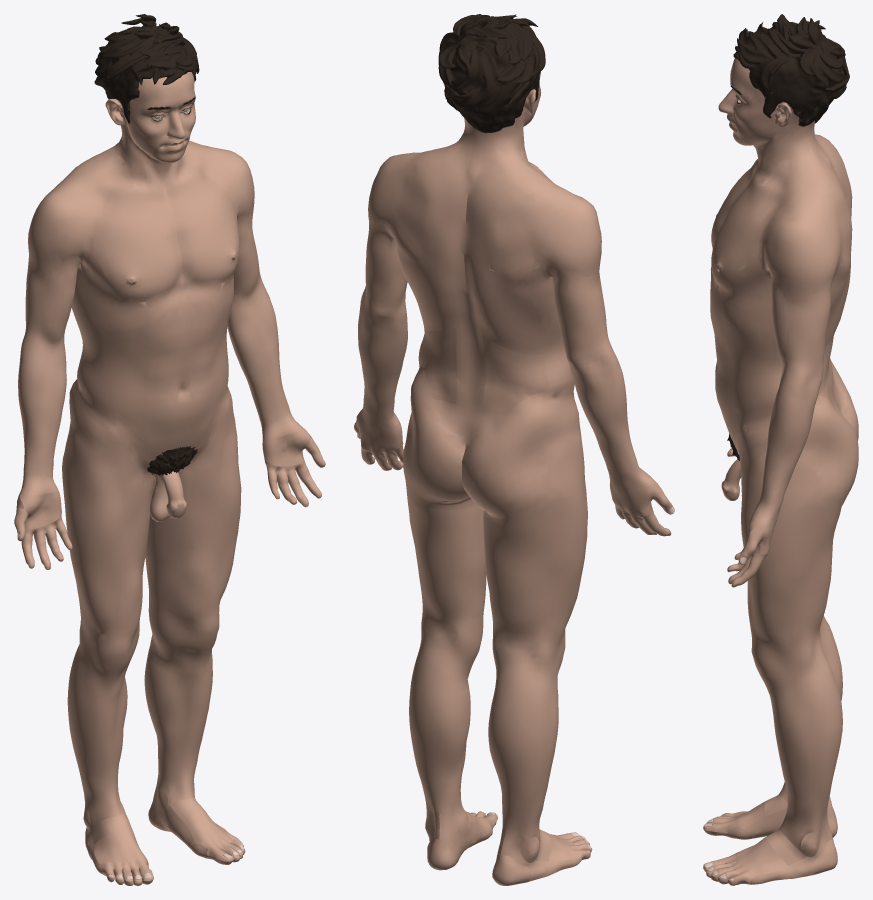
The picture shows the model from 3 angles, left to right: view 1: azimuth 30°, elevation 25°; view 2: azimuth 150°, elevation 25°; view 3: azimuth 270°, elevation 25°; orthographic projection. The views are drawn at different scales.
Parts seen in each view (by area): view 1: Ext_Anterior_Region_Of_Thigh_Right, Ext_Anterior_Region_Of_Thigh_Left, Ext_Hairs_Of_Head, Ext_Anterior_Region_Of_Leg_Left, Ext_Anterior_Region_Of_Leg_Right, Ext_Pectoral_Region_Right, Ext_Deltoid_Region_Right, Ext_Anterior_Region_Of_Forearm_Left, Ext_Anterior_Region_Of_Forearm_Right, Ext_Lateral_Region_Of_Thorax_Right, Ext_Lateral_Region_Of_Abdomen_Right, Ext_Pectoral_Region_Left (+46 smaller); view 2: Ext_Posterior_Region_Of_Thigh_Right, Ext_Hairs_Of_Head, Ext_Gluteal_Region_Right, Ext_Posterior_Region_Of_Thigh_Left, Ext_Posterior_Region_Of_Leg_Right, Ext_Posterior_Region_Of_Leg_Left, Ext_Gluteal_Region_Left, Ext_Scapular_Region_Right, Ext_Posterior_Region_Of_Arm_Right, Ext_Infrascapular_Region_Right, Ext_Scapular_Region_Left, Ext_Posterior_Region_Of_Forearm_Right (+32 smaller); view 3: Ext_Hairs_Of_Head, Ext_Anterior_Region_Of_Thigh_Left, Ext_Posterior_Region_Of_Thigh_Left, Ext_Deltoid_Region_Left, Ext_Gluteal_Region_Left, Ext_Posterior_Region_Of_Leg_Left, Ext_Lateral_Region_Of_Thorax_Left, Ext_Anterior_Region_Of_Leg_Left, Ext_Lateral_Region_Of_Abdomen_Left, Ext_Pectoral_Region_Left, Ext_Posterior_Region_Of_Arm_Left, Ext_Posterior_Region_Of_Neck_Left (+45 smaller).
Boxes of the visible parts, x1=… form: Ext_Anterior_Region_Of_Thigh_Right: x1=69, y1=382, x2=154, y2=636; Ext_Anterior_Region_Of_Thigh_Left: x1=150, y1=383, x2=241, y2=615; Ext_Hairs_Of_Head: x1=94, y1=14, x2=199, y2=123; Ext_Anterior_Region_Of_Leg_Left: x1=153, y1=654, x2=212, y2=780; Ext_Anterior_Region_Of_Leg_Right: x1=74, y1=674, x2=127, y2=799; Ext_Pectoral_Region_Right: x1=94, y1=205, x2=174, y2=302; Ext_Deltoid_Region_Right: x1=28, y1=174, x2=90, y2=271; Ext_Anterior_Region_Of_Forearm_Left: x1=228, y1=304, x2=292, y2=425; Ext_Anterior_Region_Of_Forearm_Right: x1=22, y1=360, x2=66, y2=481; Ext_Lateral_Region_Of_Thorax_Right: x1=71, y1=225, x2=147, y2=333; Ext_Lateral_Region_Of_Abdomen_Right: x1=77, y1=342, x2=147, y2=422; Ext_Pectoral_Region_Left: x1=183, y1=179, x2=238, y2=284; Ext_Posterior_Region_Of_Thigh_Right: x1=483, y1=496, x2=579, y2=640; Ext_Hairs_Of_Head: x1=438, y1=14, x2=545, y2=133; Ext_Gluteal_Region_Right: x1=462, y1=392, x2=567, y2=518; Ext_Posterior_Region_Of_Thigh_Left: x1=403, y1=471, x2=485, y2=624; Ext_Posterior_Region_Of_Leg_Right: x1=488, y1=688, x2=555, y2=830; Ext_Posterior_Region_Of_Leg_Left: x1=409, y1=667, x2=468, y2=813; Ext_Gluteal_Region_Left: x1=403, y1=360, x2=470, y2=501; Ext_Scapular_Region_Right: x1=486, y1=191, x2=559, y2=287; Ext_Posterior_Region_Of_Arm_Right: x1=543, y1=242, x2=606, y2=348; Ext_Infrascapular_Region_Right: x1=475, y1=273, x2=545, y2=354; Ext_Scapular_Region_Left: x1=379, y1=164, x2=436, y2=266; Ext_Posterior_Region_Of_Forearm_Right: x1=570, y1=368, x2=640, y2=475; Ext_Hairs_Of_Head: x1=733, y1=14, x2=849, y2=126; Ext_Anterior_Region_Of_Thigh_Left: x1=738, y1=407, x2=787, y2=646; Ext_Posterior_Region_Of_Thigh_Left: x1=783, y1=506, x2=841, y2=645; Ext_Deltoid_Region_Left: x1=763, y1=197, x2=834, y2=297; Ext_Gluteal_Region_Left: x1=798, y1=395, x2=858, y2=509; Ext_Posterior_Region_Of_Leg_Left: x1=798, y1=679, x2=842, y2=822; Ext_Lateral_Region_Of_Thorax_Left: x1=715, y1=229, x2=846, y2=343; Ext_Anterior_Region_Of_Leg_Left: x1=770, y1=696, x2=806, y2=822; Ext_Lateral_Region_Of_Abdomen_Left: x1=723, y1=347, x2=782, y2=414; Ext_Pectoral_Region_Left: x1=711, y1=197, x2=769, y2=291; Ext_Posterior_Region_Of_Arm_Left: x1=799, y1=248, x2=839, y2=364; Ext_Posterior_Region_Of_Neck_Left: x1=784, y1=120, x2=834, y2=199.
Size of the model in its own units: 0.6804 by 1.74 by 0.294.
